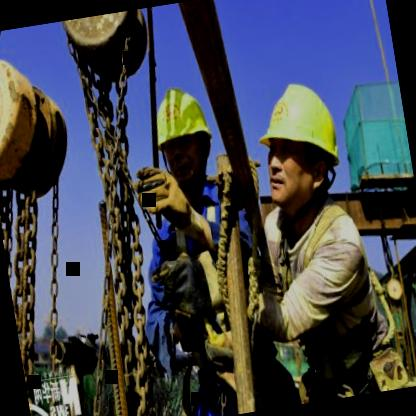helmet: (241, 61, 356, 226), (141, 72, 224, 206)
